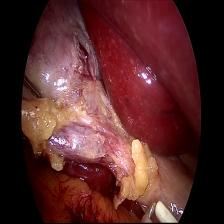Grasper: (23, 76, 44, 111)
Hook: (145, 199, 180, 224)
